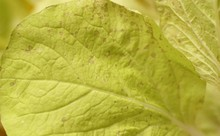damaged_cabbage: (1, 1, 219, 135)
